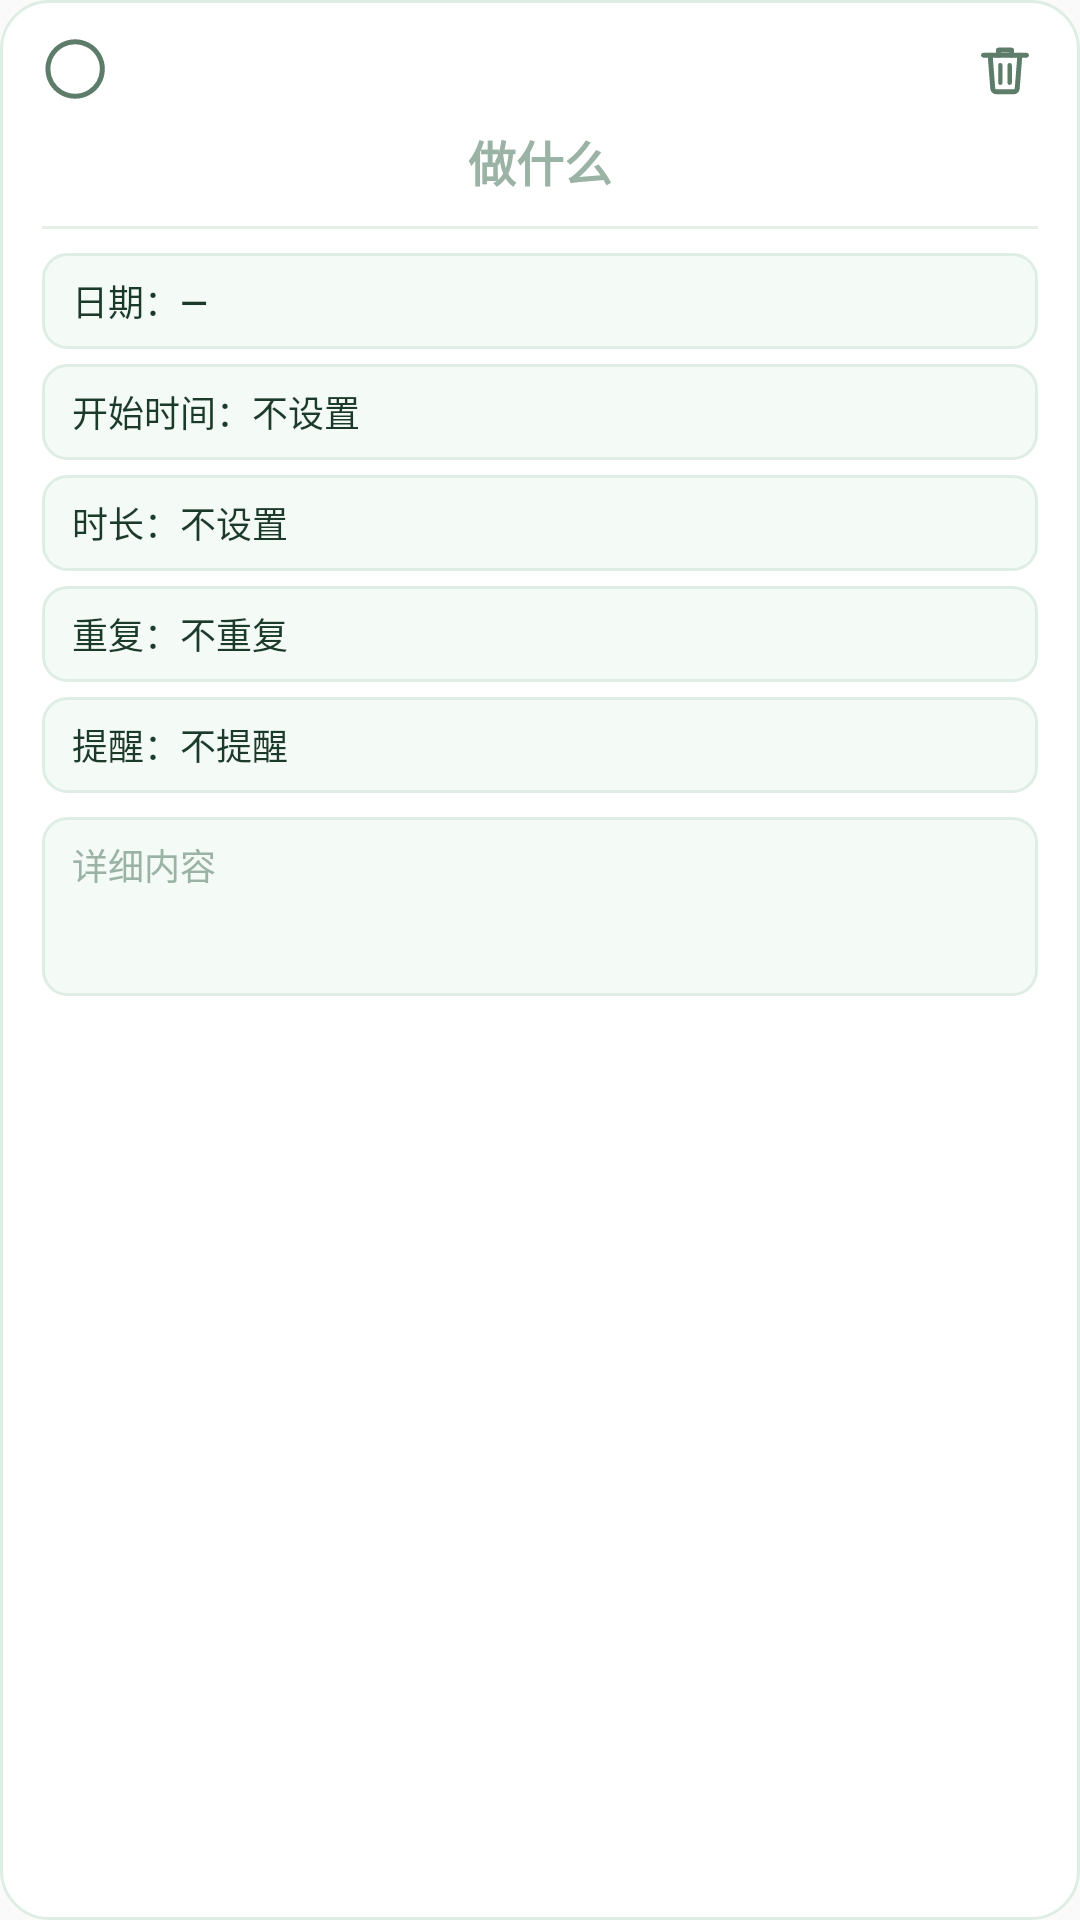

Where to tap for icons on this 1080px×1920px app screen, as (x,y):
删除任务: (1005,71)
标记完成: (75,69)
